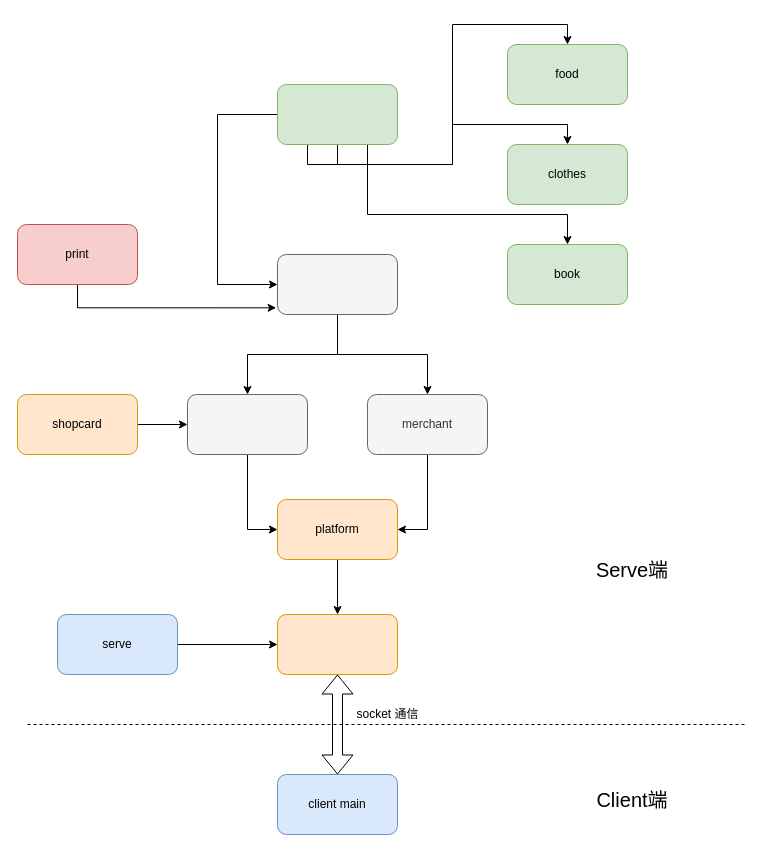
Image size: 766x852. Some labels were removed from this diagram. Here are the shapes that lost their labels. From the top down, the centre of each, then its label:
the point at 337,114: goods
the point at 337,284: account
the point at 247,424: consumer
the point at 337,644: main
